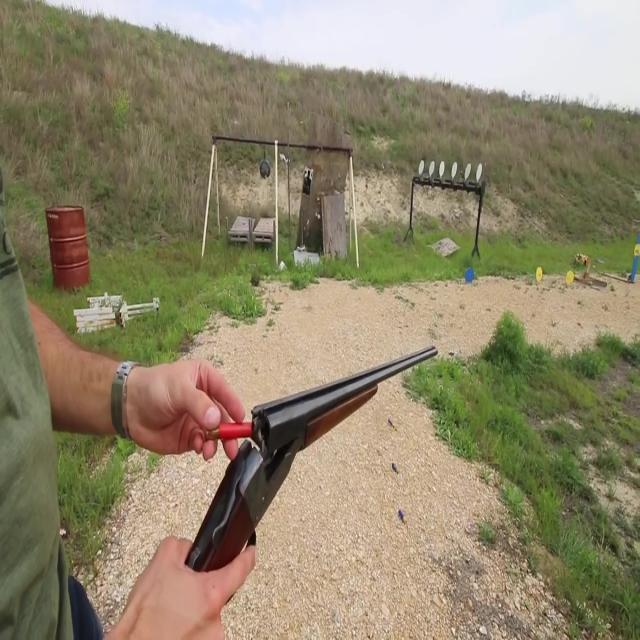Weapon: (125, 347, 482, 589)
